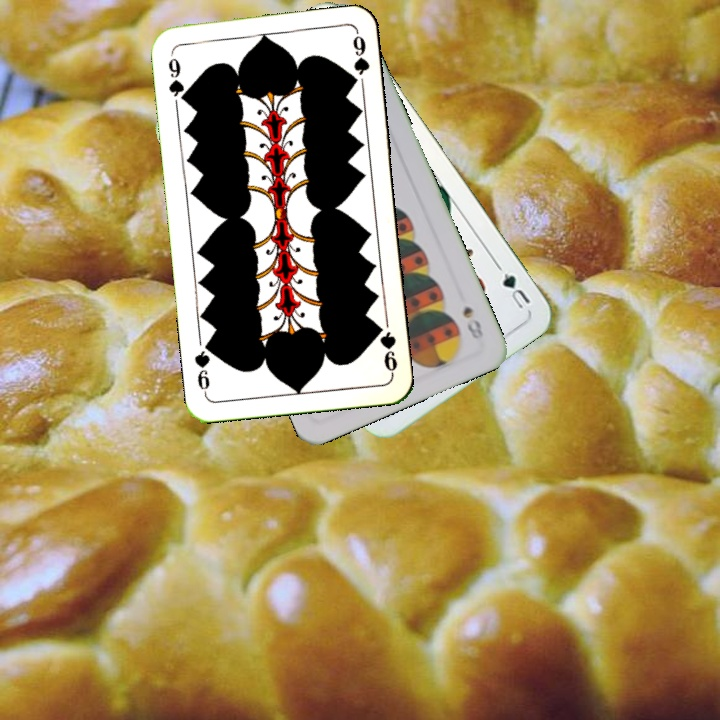G9: (371, 320, 400, 378), (164, 49, 190, 108)
GU: (498, 268, 533, 314)
S8: (459, 301, 486, 342)
